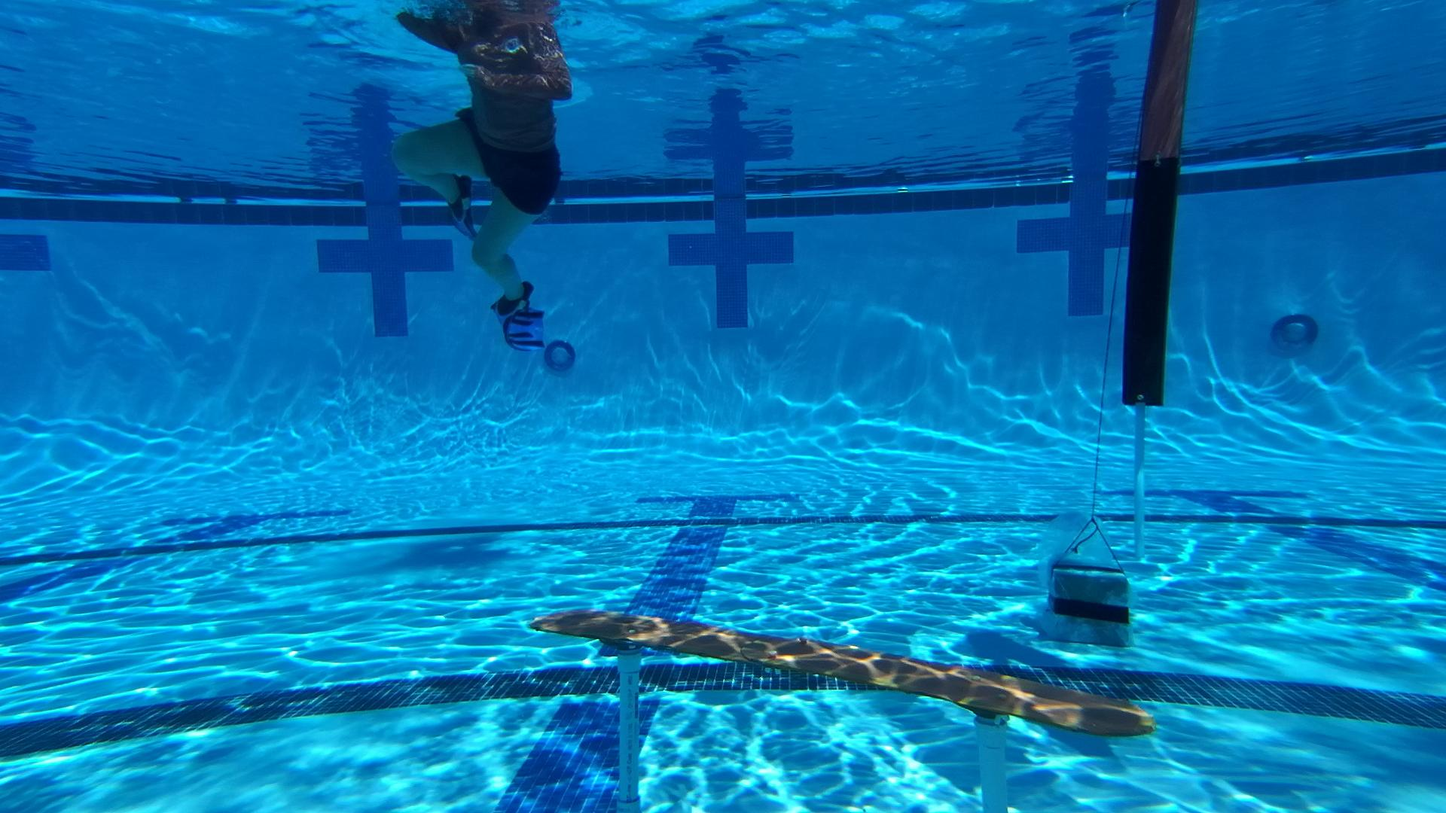path: (523, 610, 1158, 813)
